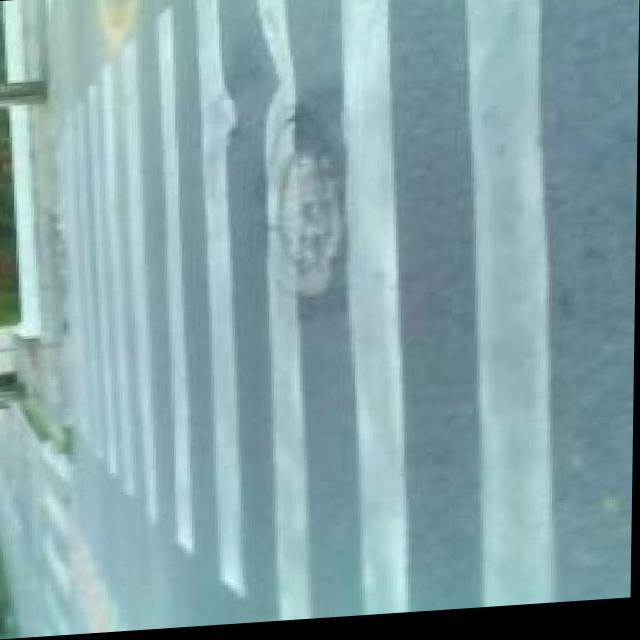zebra: (82, 5, 633, 457)
